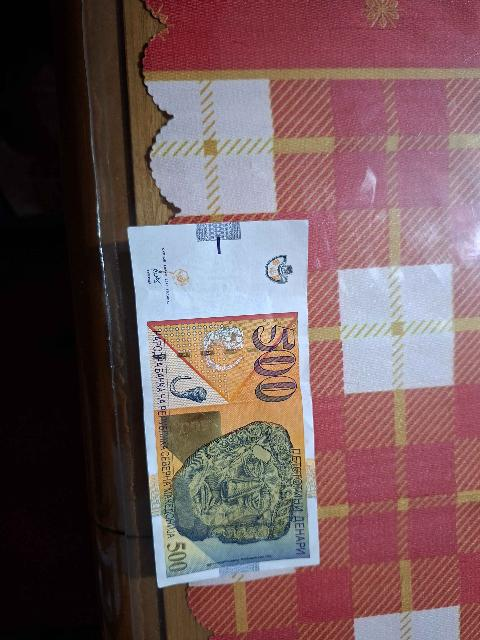500_note: (128, 224, 323, 587)
